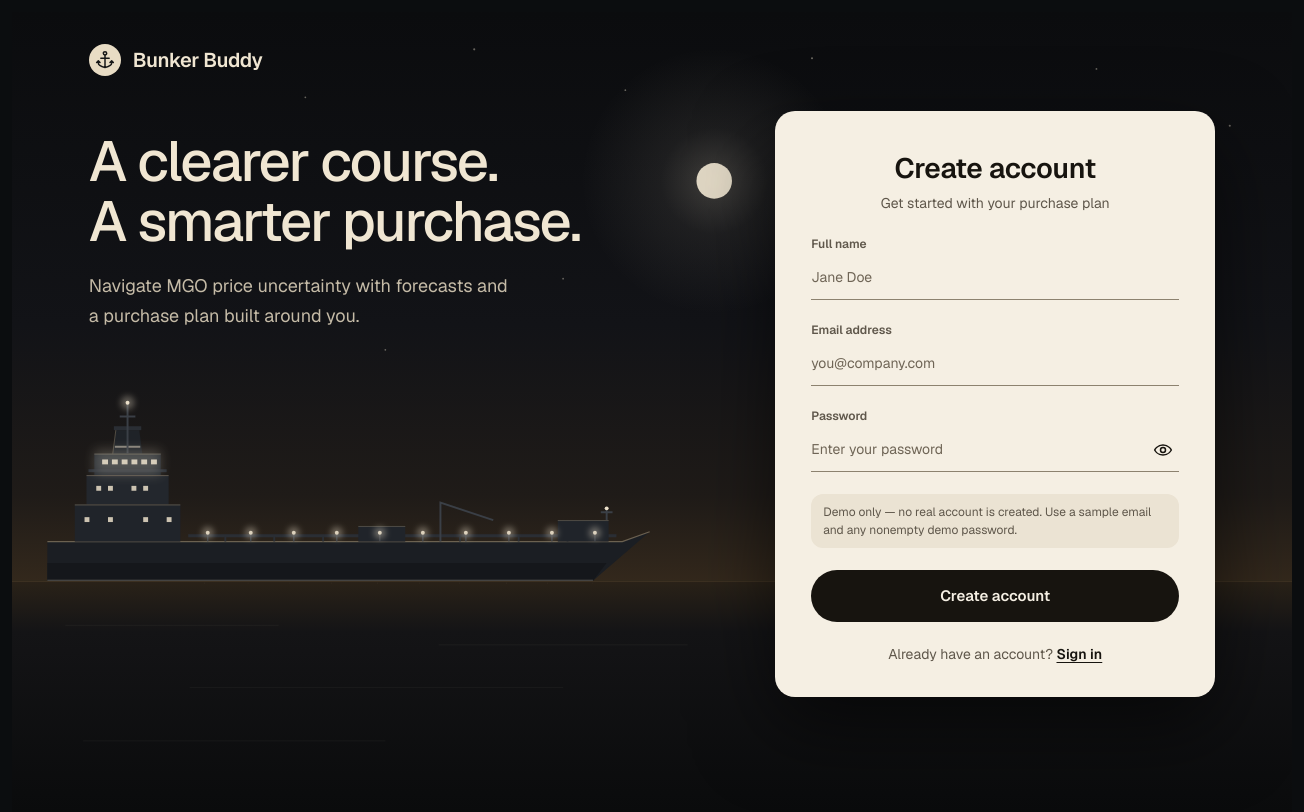
Test: shared app and auth journeys › validates signup, surfaces provider field errors, retries and uses the entered name
Click the button "Create account" at x=995, y=596, box [811,570,1179,622]
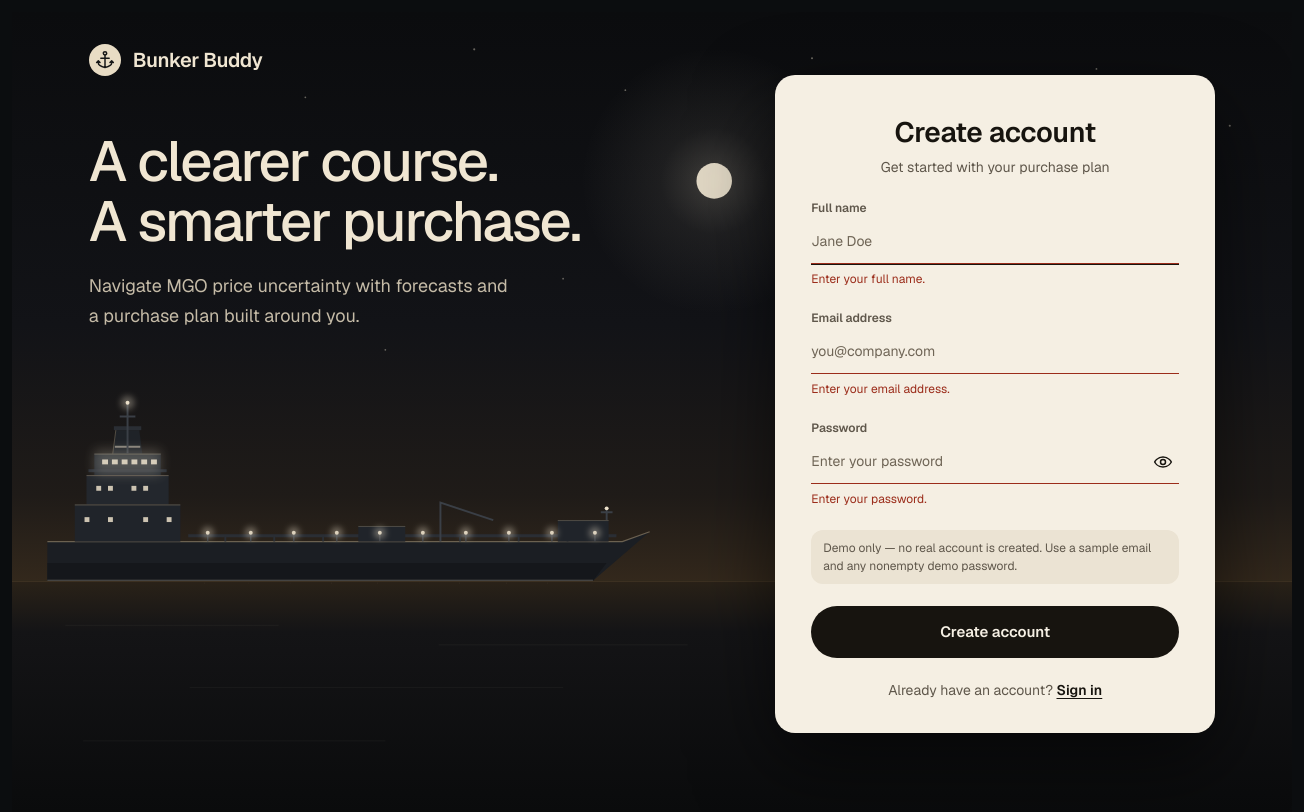
expect the text "Enter your full name." is shown: met, box [811,271,925,287]
Type "Rae" into the field labelled "Full name" at x=995, y=242, box [811,220,1179,264]
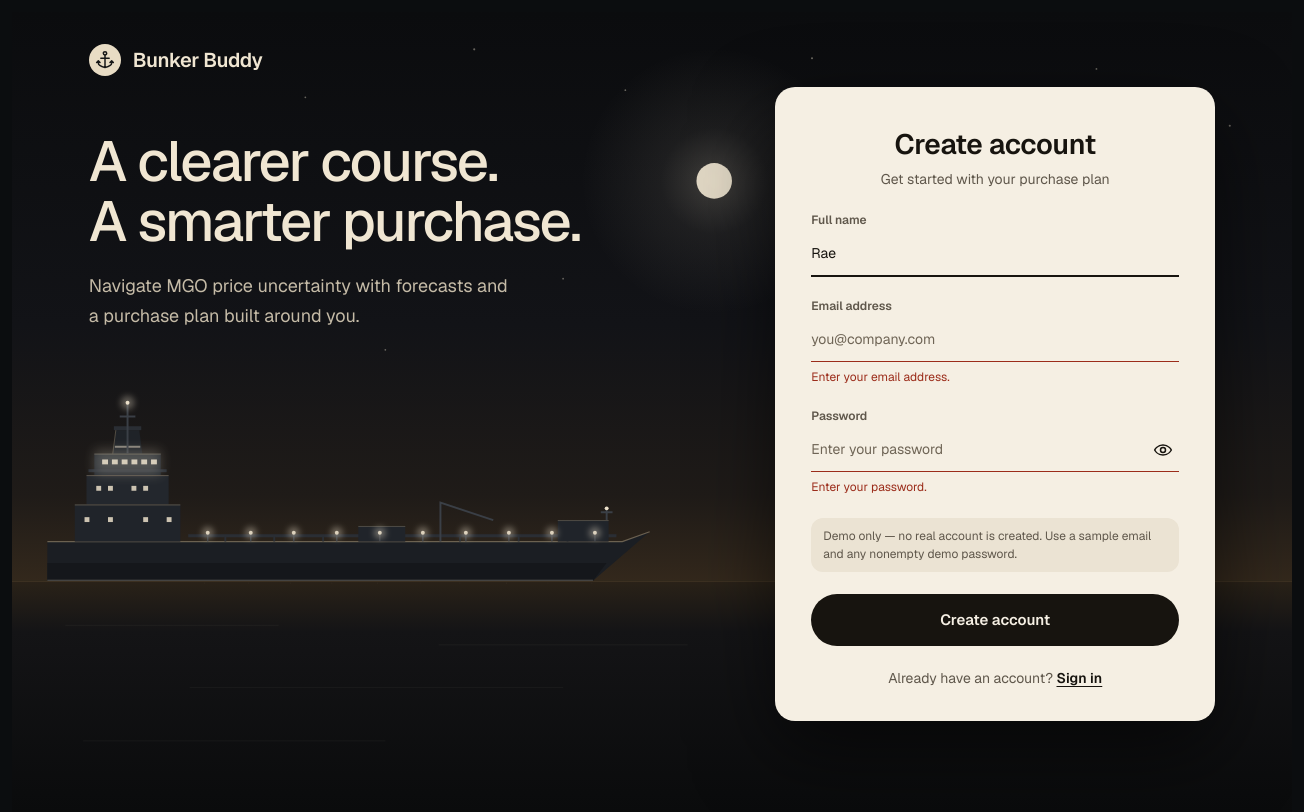
Type "rae@example.com" into the field labelled "Email address" at x=995, y=340, box [811,318,1179,362]
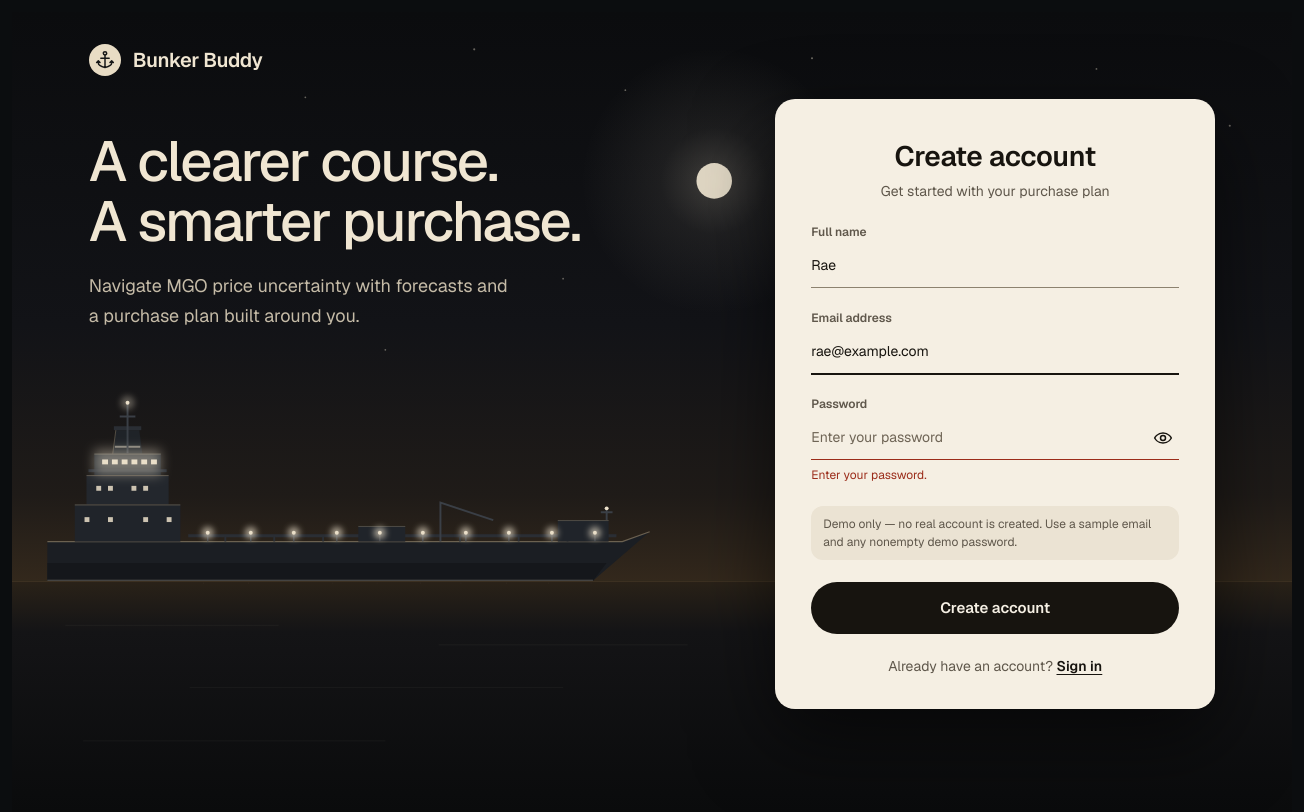
Type "demo" into the password field labelled "Password" at x=995, y=438, box [811,416,1179,460]
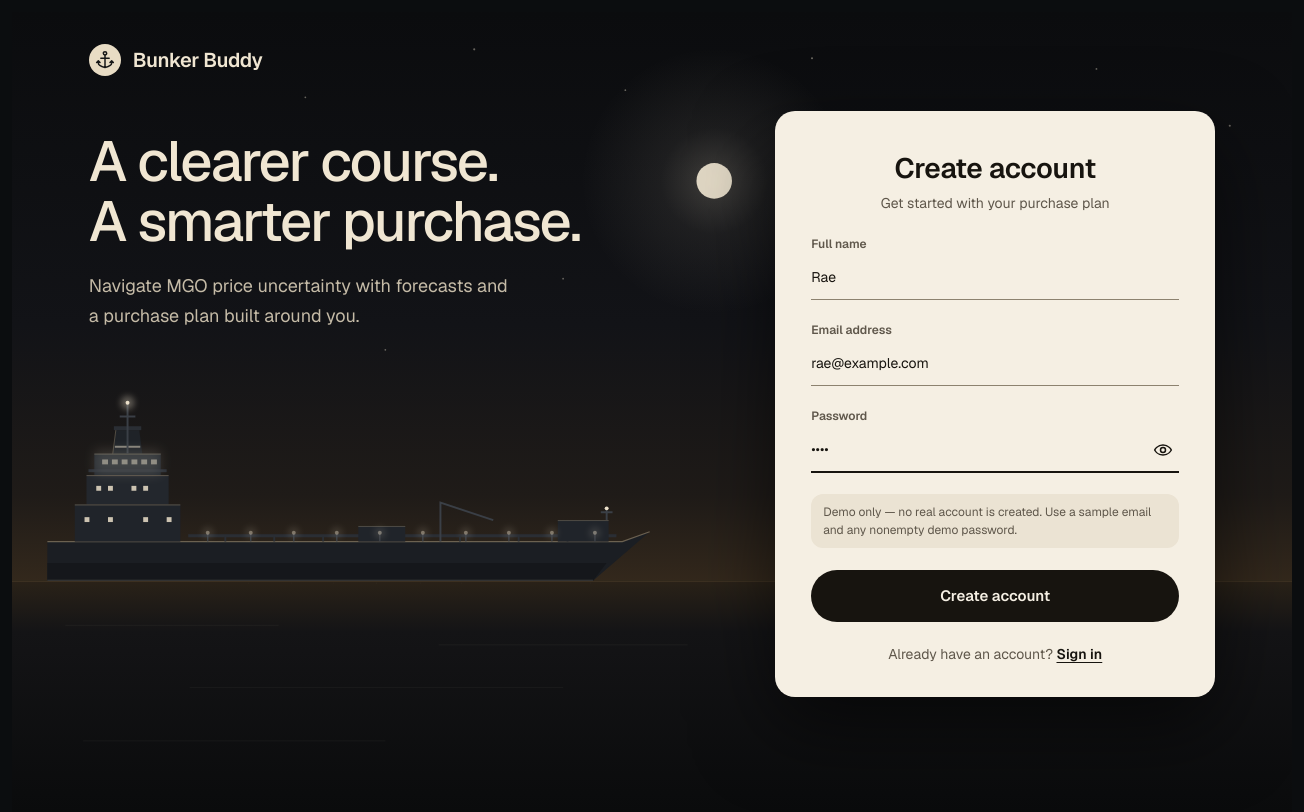
Click the button "Create account" at x=995, y=596, box [811,570,1179,622]
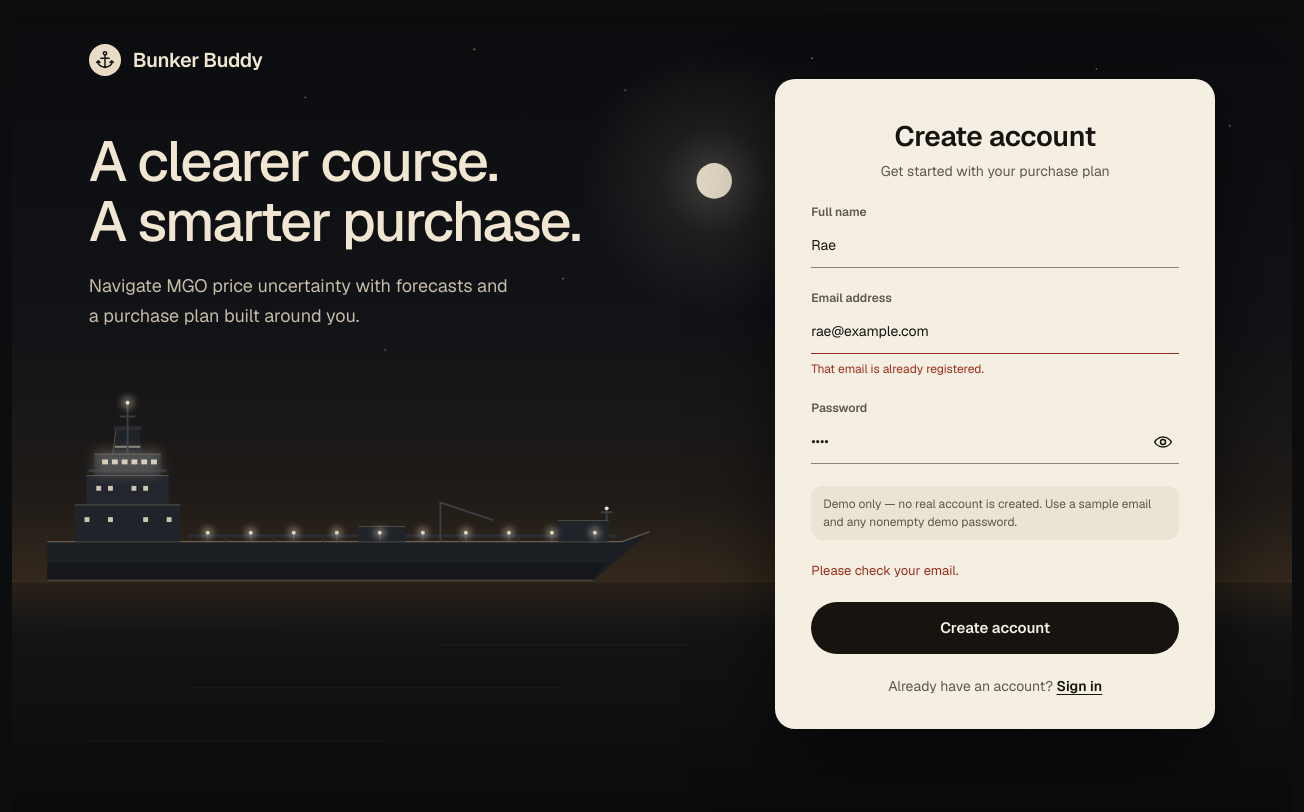
expect the message reads "Please check your email.": met, box [811,562,959,579]
Click the button "Create account" at x=995, y=628, box [811,602,1179,654]
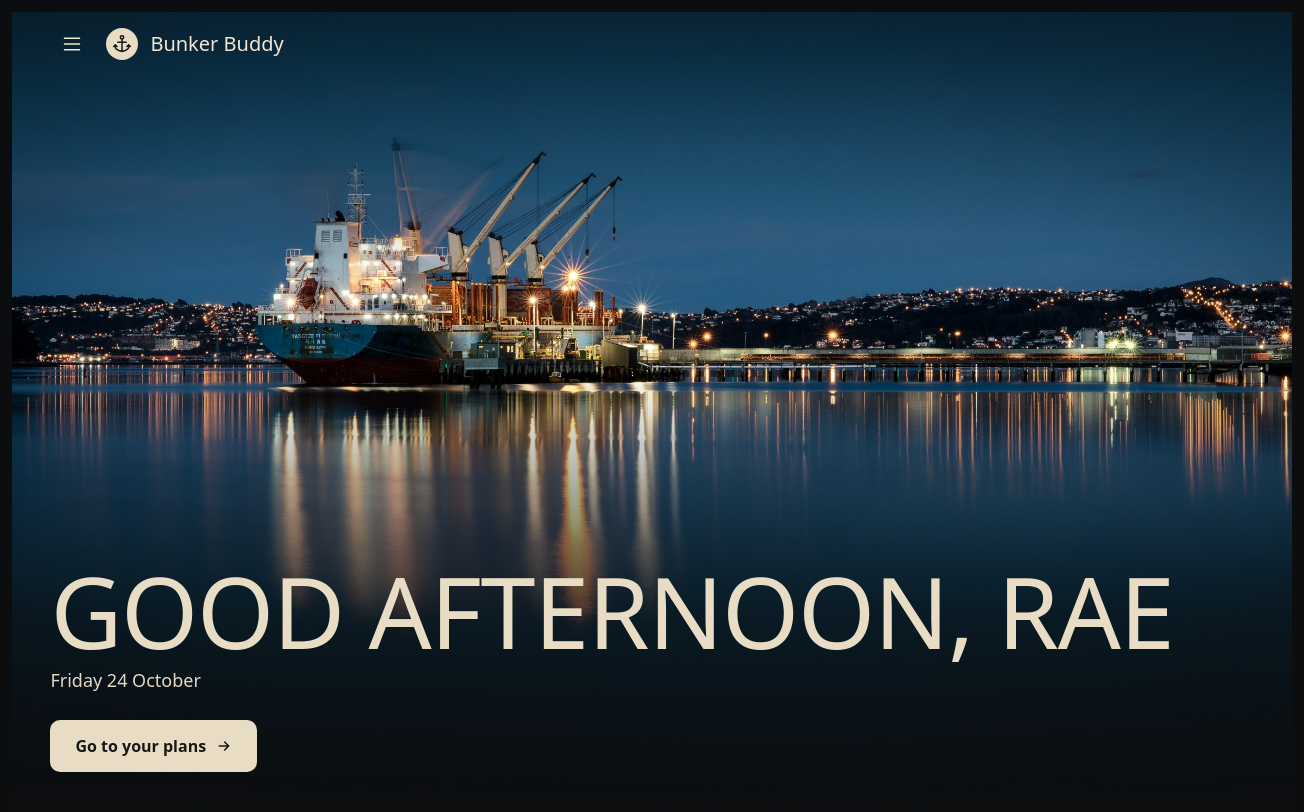
expect the heading "Good afternoon, Rae" is shown: met, box [50,565,1254,656]
